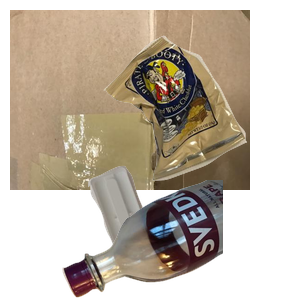cardboard: (10, 10, 250, 190)
glass: (60, 180, 300, 300)
plastic: (85, 163, 235, 300)
trash: (101, 33, 300, 206)
